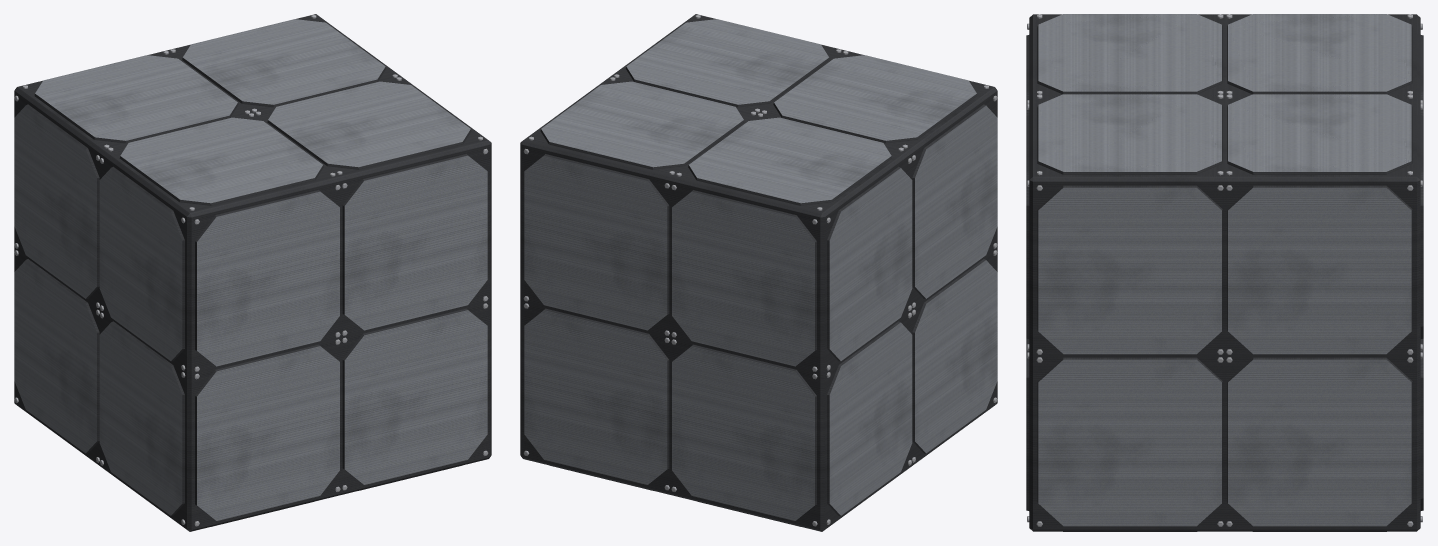
The model's file is R4B_BigCube2.glb.
3 views of the same model, side by side, from view 1: azimuth 30°, elevation 25°; view 2: azimuth 150°, elevation 25°; view 3: azimuth 270°, elevation 25° (orthographic). The views are drawn at different scales.
Visible parts, largest first — view 1: R4B_BigCube2; view 2: R4B_BigCube2; view 3: R4B_BigCube2.
Part boxes in pixels (x1=…): R4B_BigCube2: x1=14, y1=14, x2=491, y2=531; R4B_BigCube2: x1=520, y1=14, x2=997, y2=531; R4B_BigCube2: x1=1026, y1=14, x2=1423, y2=531.
Size of the model in its own units: 1.07 by 1.07 by 1.07.
3 materials, 3 textured.
